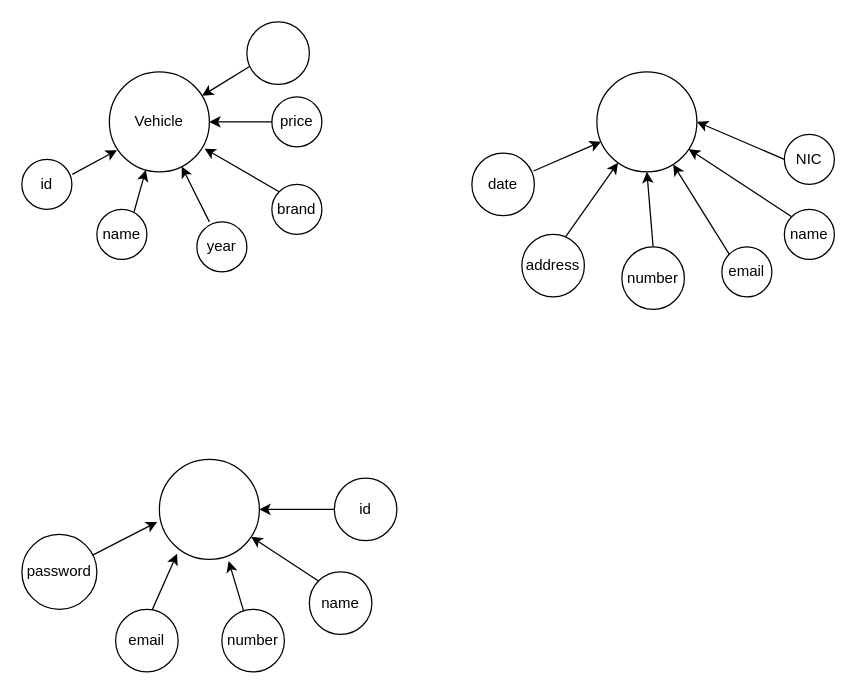
The diagram is 856 pixels wide and 694 high, and some of its shapes have lost their labels. The centre of each missing label's shape, as x and y in pixels:
"Customer" belongs at pixel 646 121.
"options" belongs at pixel 277 52.
"User" belongs at pixel 208 508.
